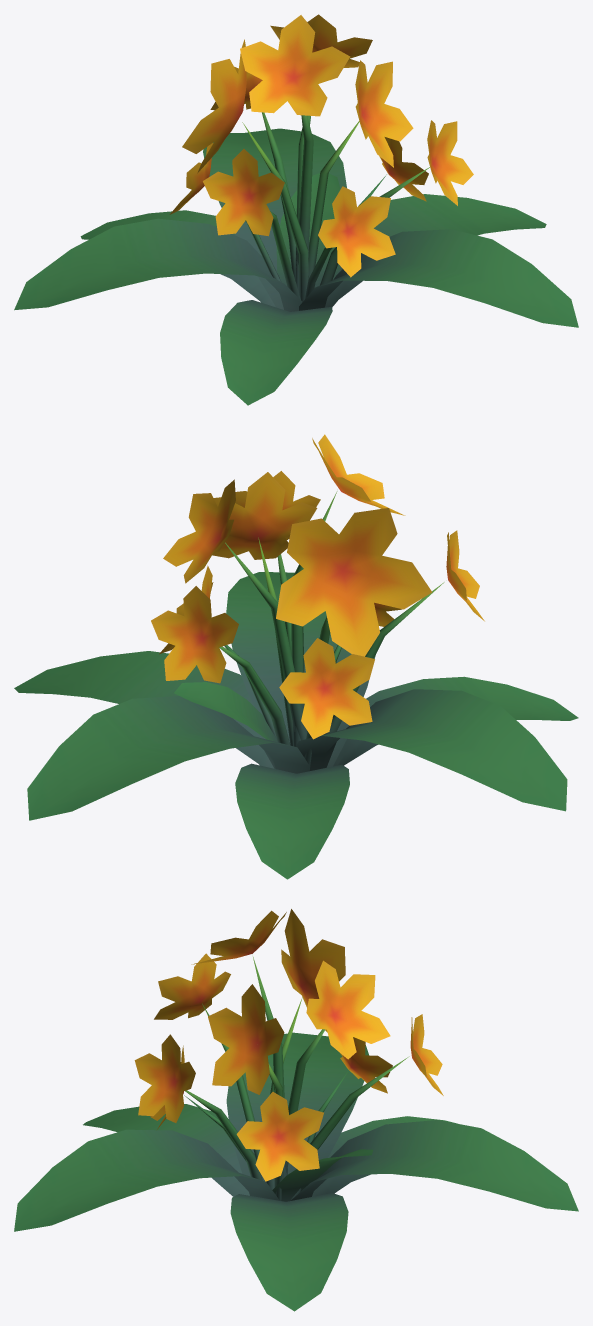
File: flower_004_base_material_0.fbx
The picture shows the model from 3 angles, top to bottom: view 1: azimuth 30°, elevation 25°; view 2: azimuth 150°, elevation 25°; view 3: azimuth 270°, elevation 25°; orthographic projection. The views are drawn at different scales.
Parts seen in each view (by area): view 1: flower_004_base_material_0; view 2: flower_004_base_material_0; view 3: flower_004_base_material_0.
Part boxes in pixels (<box>): flower_004_base_material_0: <box>14,14,578,405</box>; flower_004_base_material_0: <box>14,434,578,879</box>; flower_004_base_material_0: <box>14,909,578,1311</box>.
Bounding box in the file's own units: 4.25 × 4.09 × 2.55.
1 material, 1 textured.
